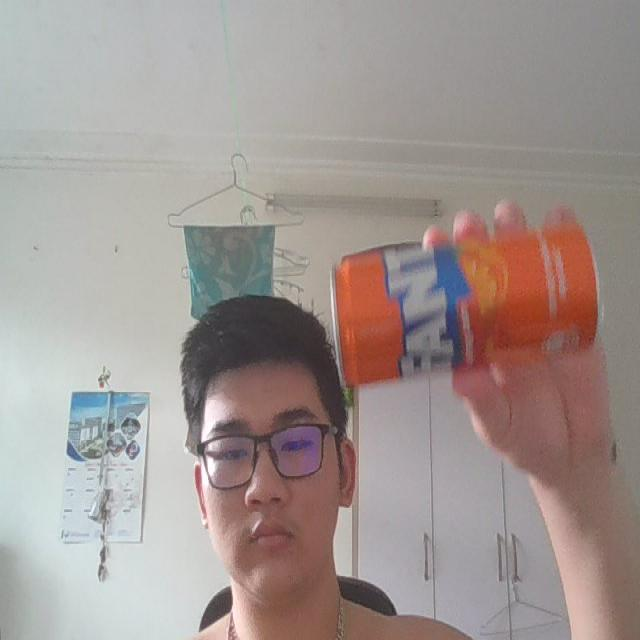Fanta: (328, 226, 603, 390)
